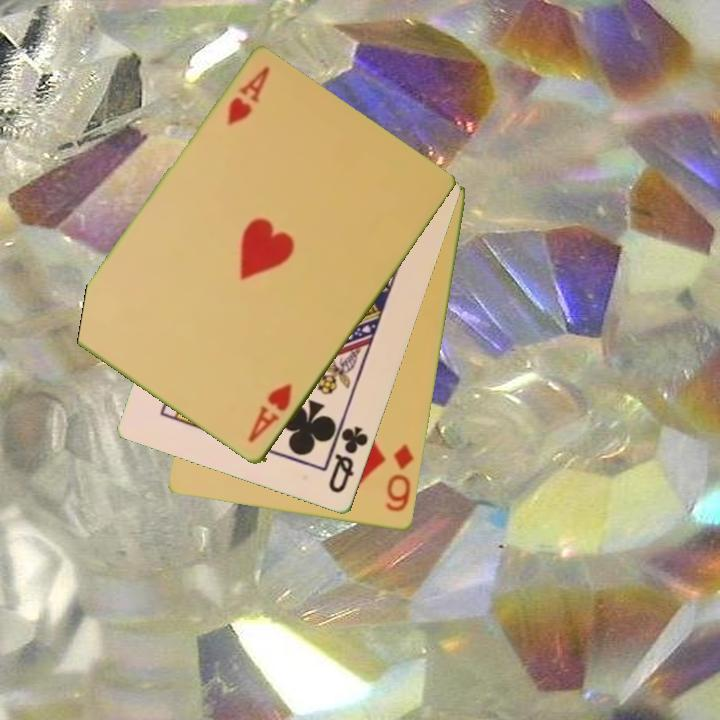6d: (382, 441, 417, 515)
Ah: (244, 380, 296, 447), (223, 63, 273, 129)
Qc: (324, 416, 371, 497)
